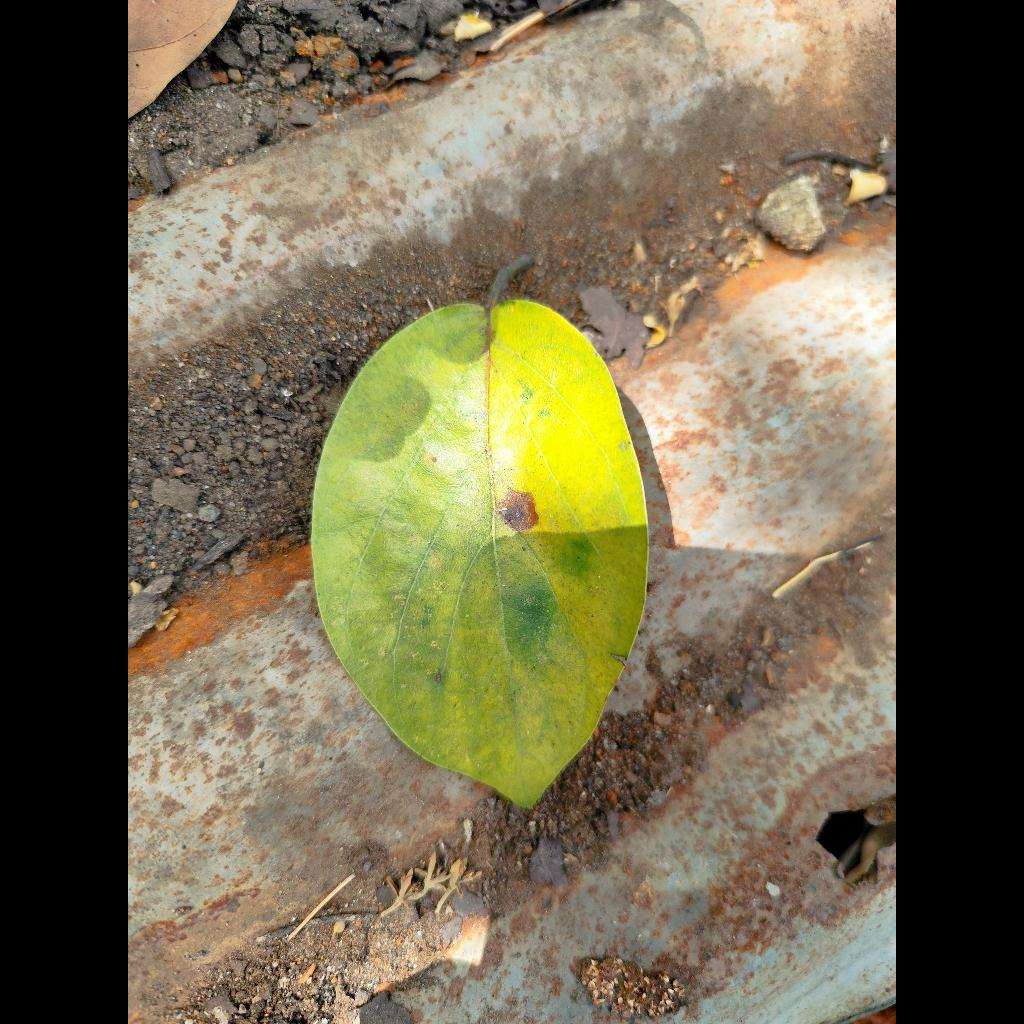deficiencia_nutricional: (311, 301, 647, 806)
